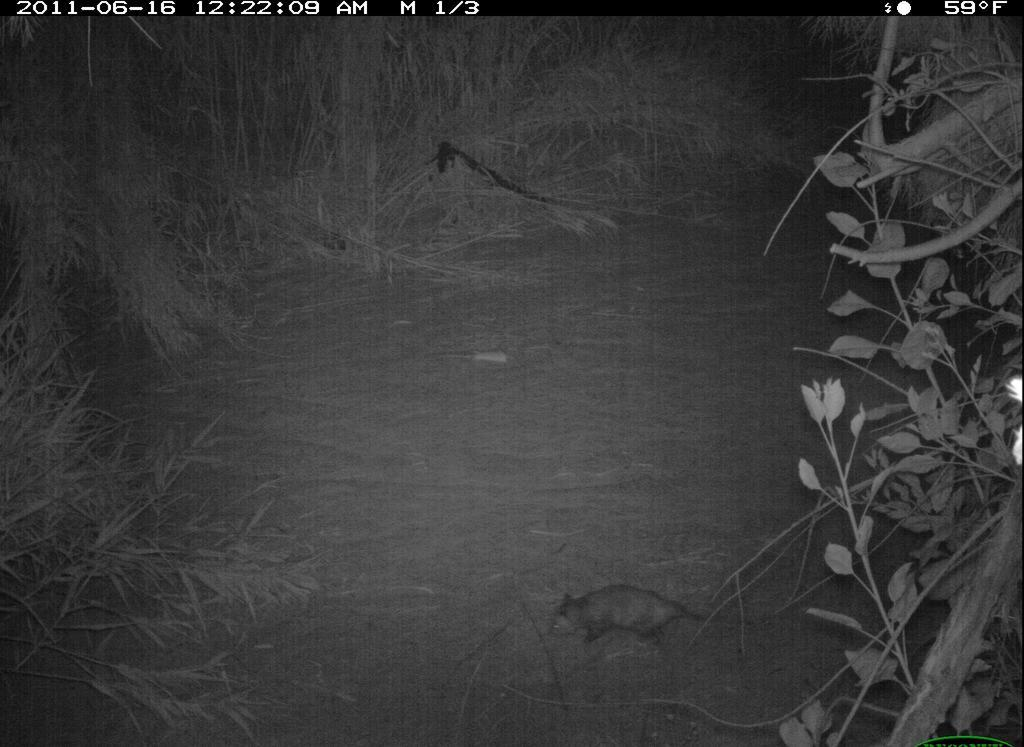opossum: (538, 579, 770, 660)
